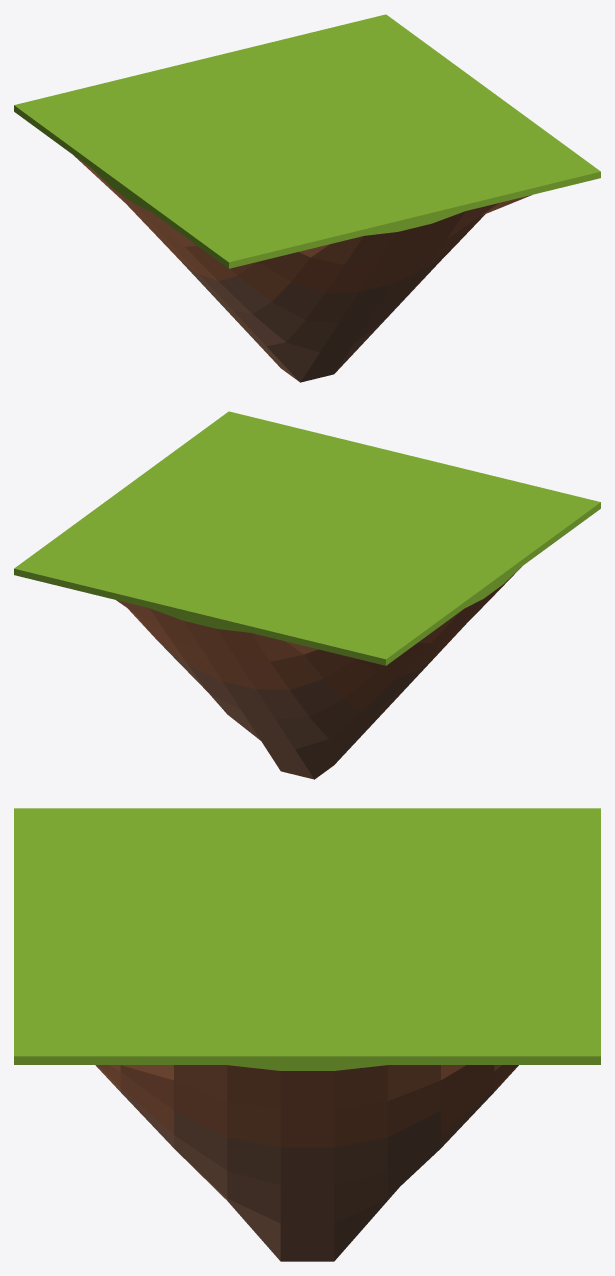
Rendered from Platform.fbx.
3 renders of one model, top to bottom at view 1: azimuth 30°, elevation 25°; view 2: azimuth 150°, elevation 25°; view 3: azimuth 270°, elevation 25°, orthographic. The views are drawn at different scales.
Parts seen in each view (by area): view 1: Plane; view 2: Plane; view 3: Plane.
Part boxes in pixels (x1,y1,x2,y2): Plane: [14, 14, 600, 382]; Plane: [14, 411, 600, 779]; Plane: [14, 808, 600, 1261].
Size of the model in its own units: 1200 by 718 by 1200.
